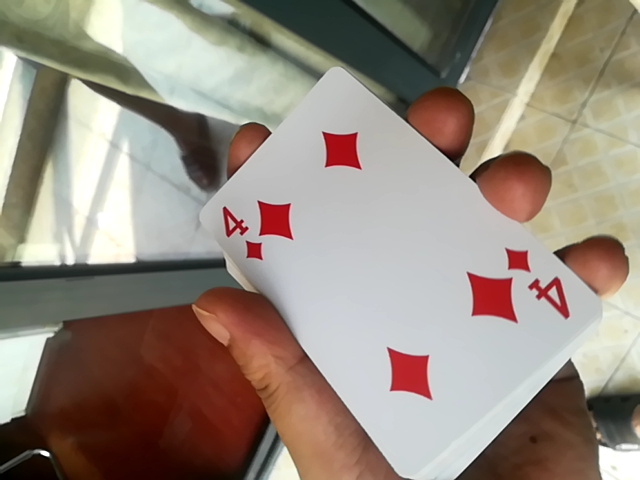fk 4: (118, 75, 602, 479)
